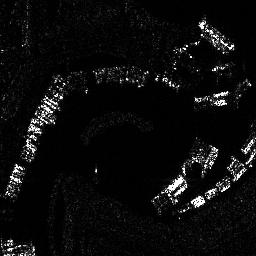ship: (195, 20, 238, 52)
